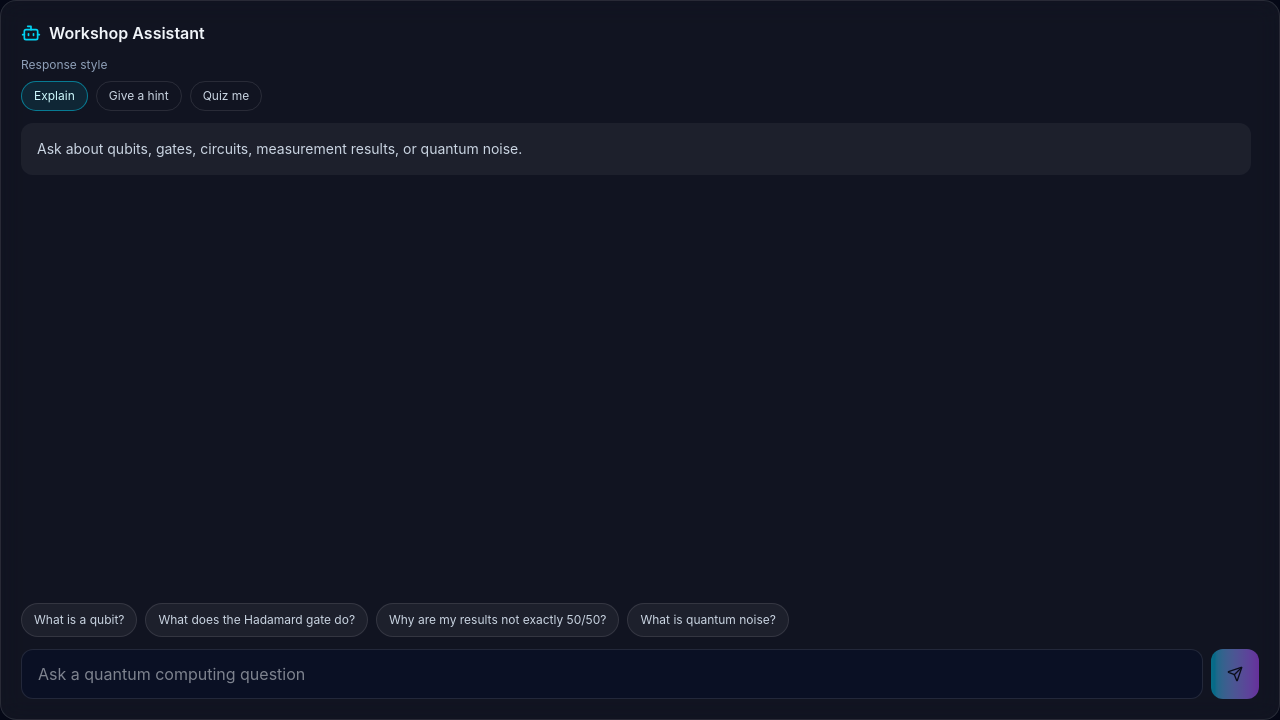
Test case: shows an explicit offline notice for a workshop guide reply
This screenshot has width=1280, height=720.
Click the button "What is a qubit?" at (79, 620), box [21,603,138,637]
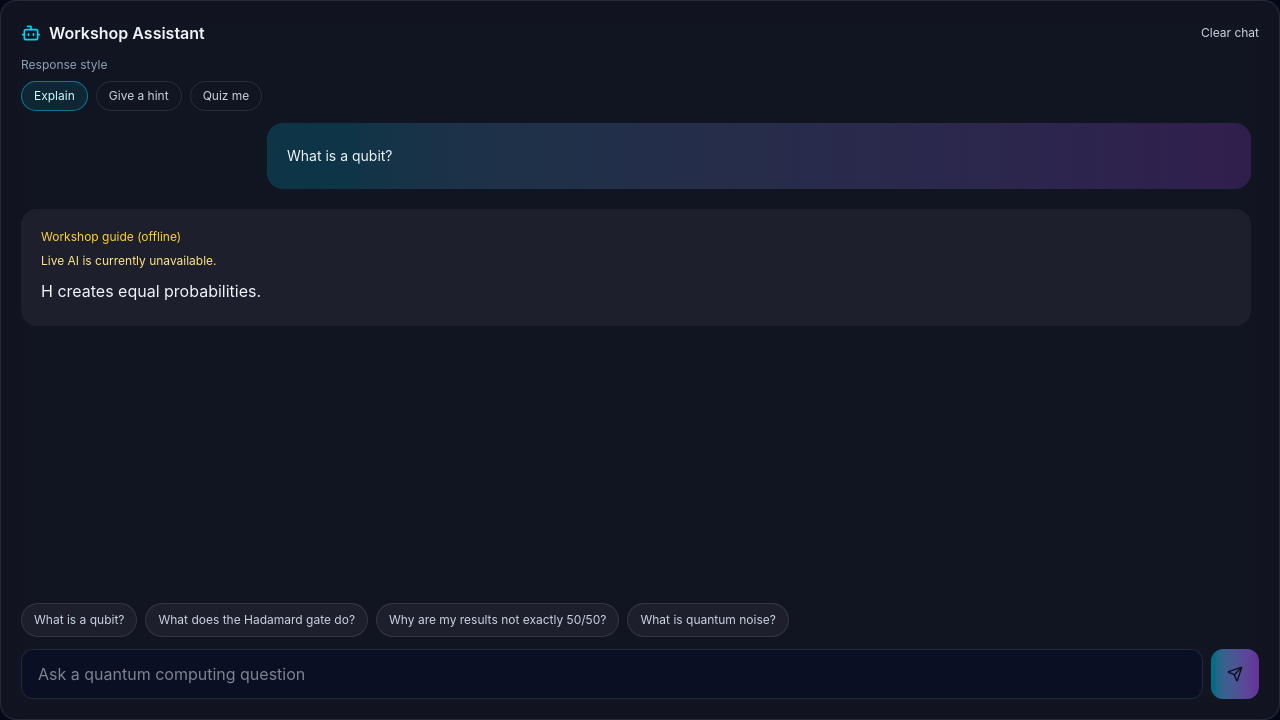
Expected: the text "Workshop guide (offline)" is shown, [41,229,181,244]
Expected: the text "Live AI is currently unavailable." is shown, [41,253,217,268]
